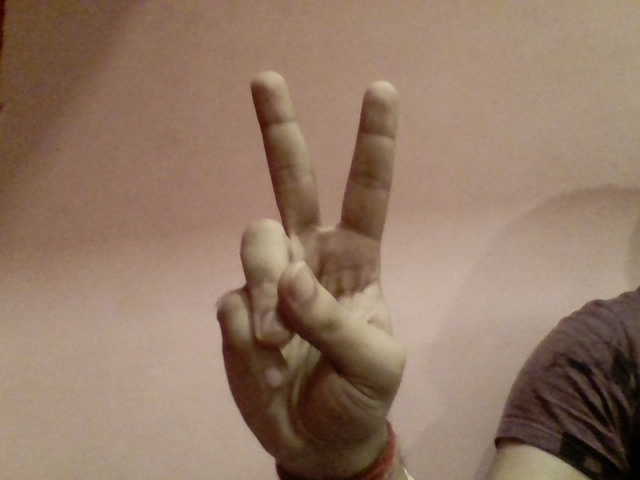v: (201, 62, 424, 467)
